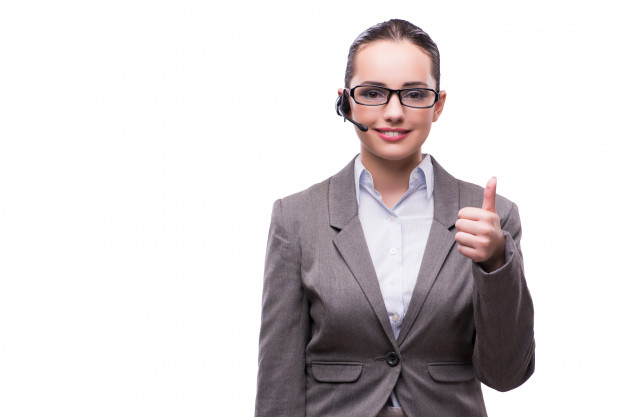thumbsup: (455, 176, 499, 260)
